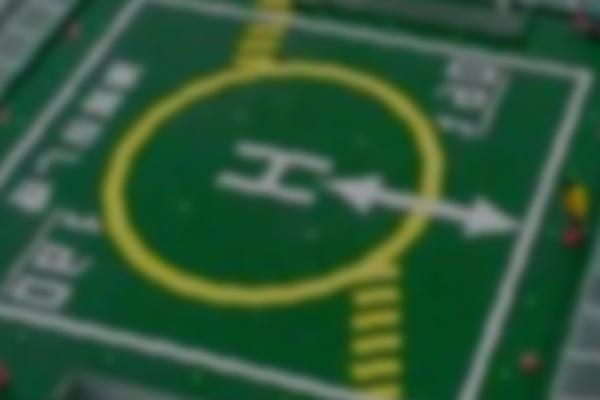Apron: (98, 50, 455, 303)
